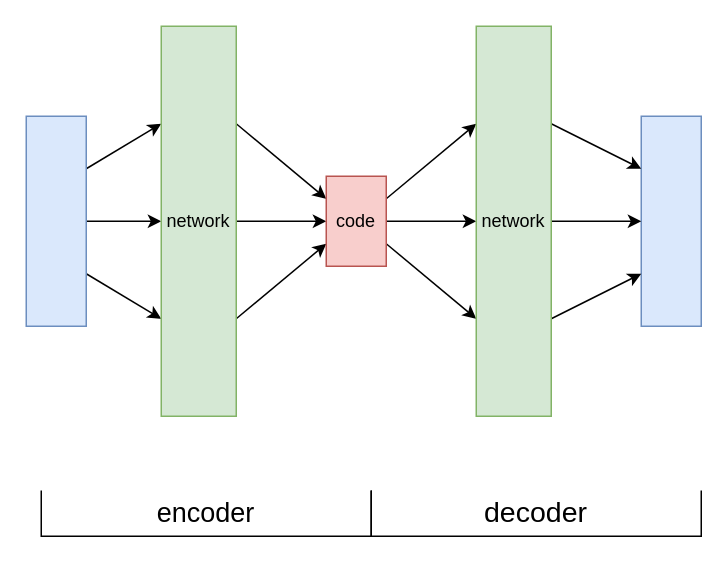
Some shapes in this 728 by 563 pixel diagram are drawn without their labels. The box of each missing label's shape, as (x1, y1, x2, y2) in pixels:
input: (25, 115, 86, 326)
output: (640, 115, 701, 326)
